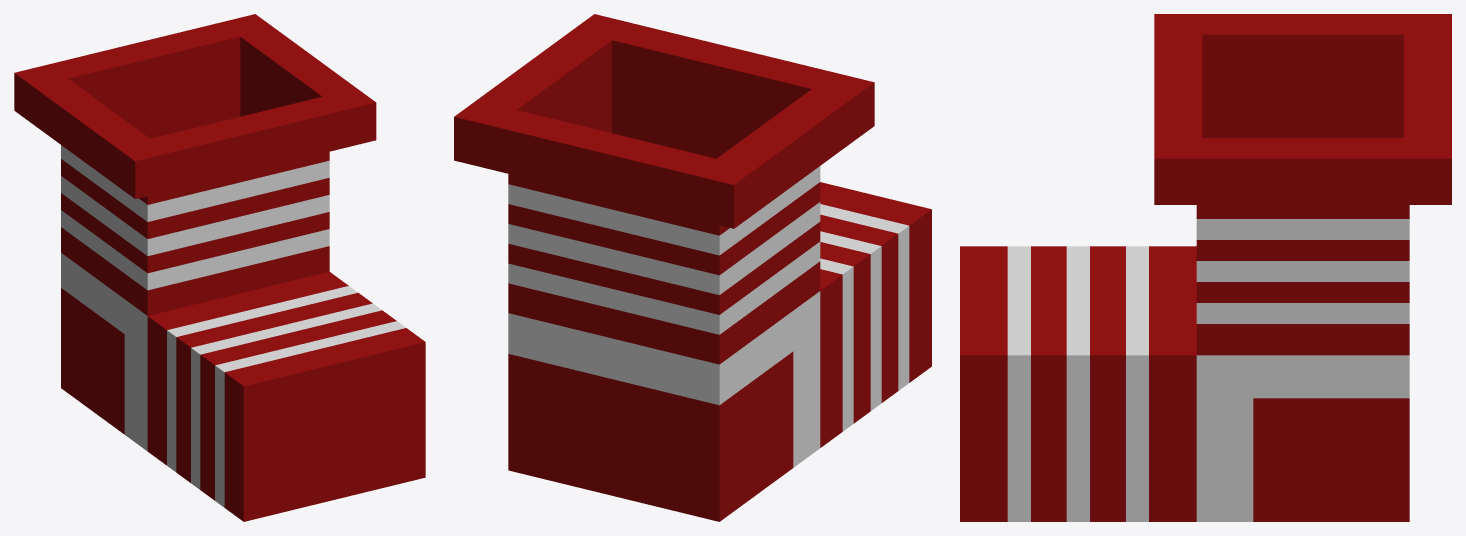
File: 039 Christmas_Socks.fbx
The picture shows the model from 3 angles, left to right: view 1: azimuth 30°, elevation 25°; view 2: azimuth 150°, elevation 25°; view 3: azimuth 270°, elevation 25°; orthographic projection. The views are drawn at different scales.
Parts seen in each view (by area): view 1: Lowpoly_Christmas_Pack_037:pCube1; view 2: Lowpoly_Christmas_Pack_037:pCube1; view 3: Lowpoly_Christmas_Pack_037:pCube1.
Boxes of the visible parts, left/top/right/bottom form: Lowpoly_Christmas_Pack_037:pCube1: left=14, top=14, right=425, bottom=521; Lowpoly_Christmas_Pack_037:pCube1: left=454, top=14, right=931, bottom=521; Lowpoly_Christmas_Pack_037:pCube1: left=960, top=14, right=1451, bottom=521.
Bounding box in the file's own units: 0.8142 × 0.9999 × 1.17.
